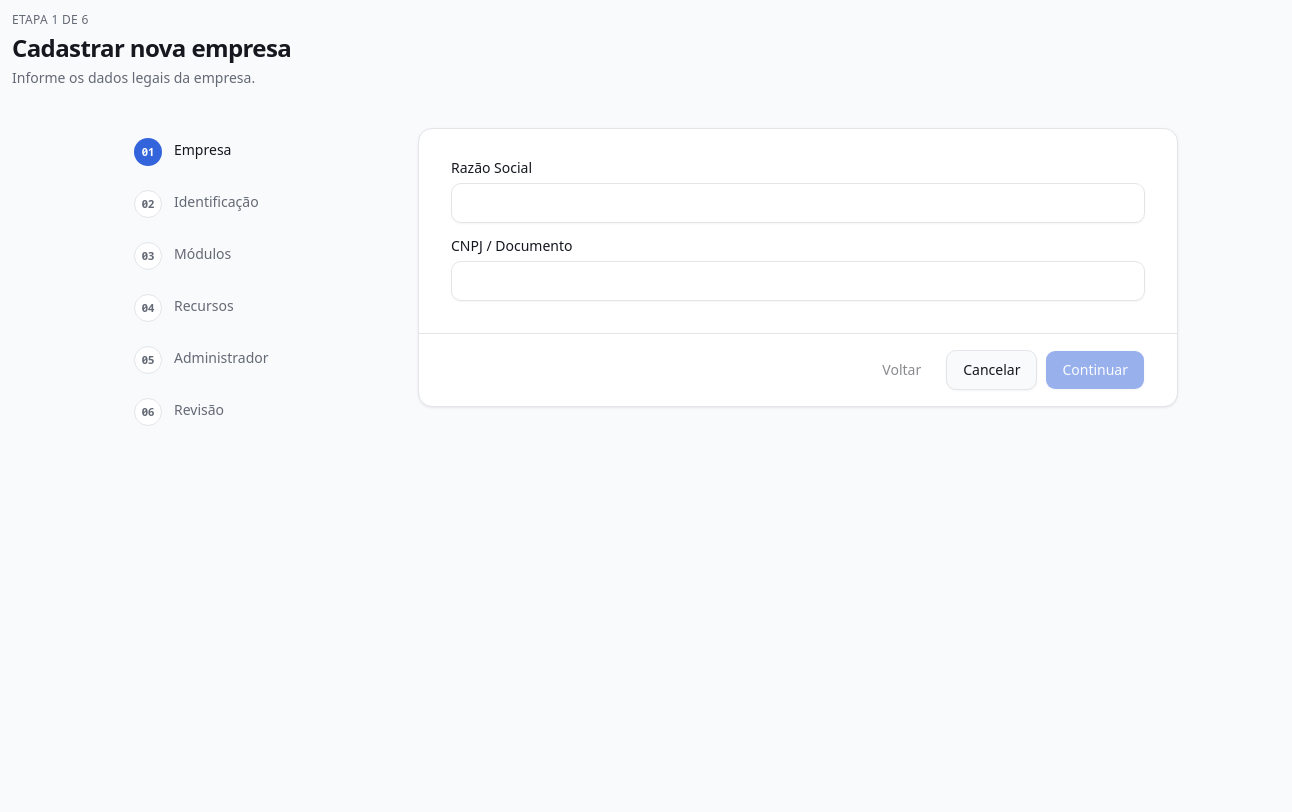
Test case: TenantOnboardingWizard › keeps Back and Cancel enabled on an invalid step after the first
Step 1. Type "Clube Acme" into the field labelled "Razão Social" → (798, 203), box [451,183,1145,223]
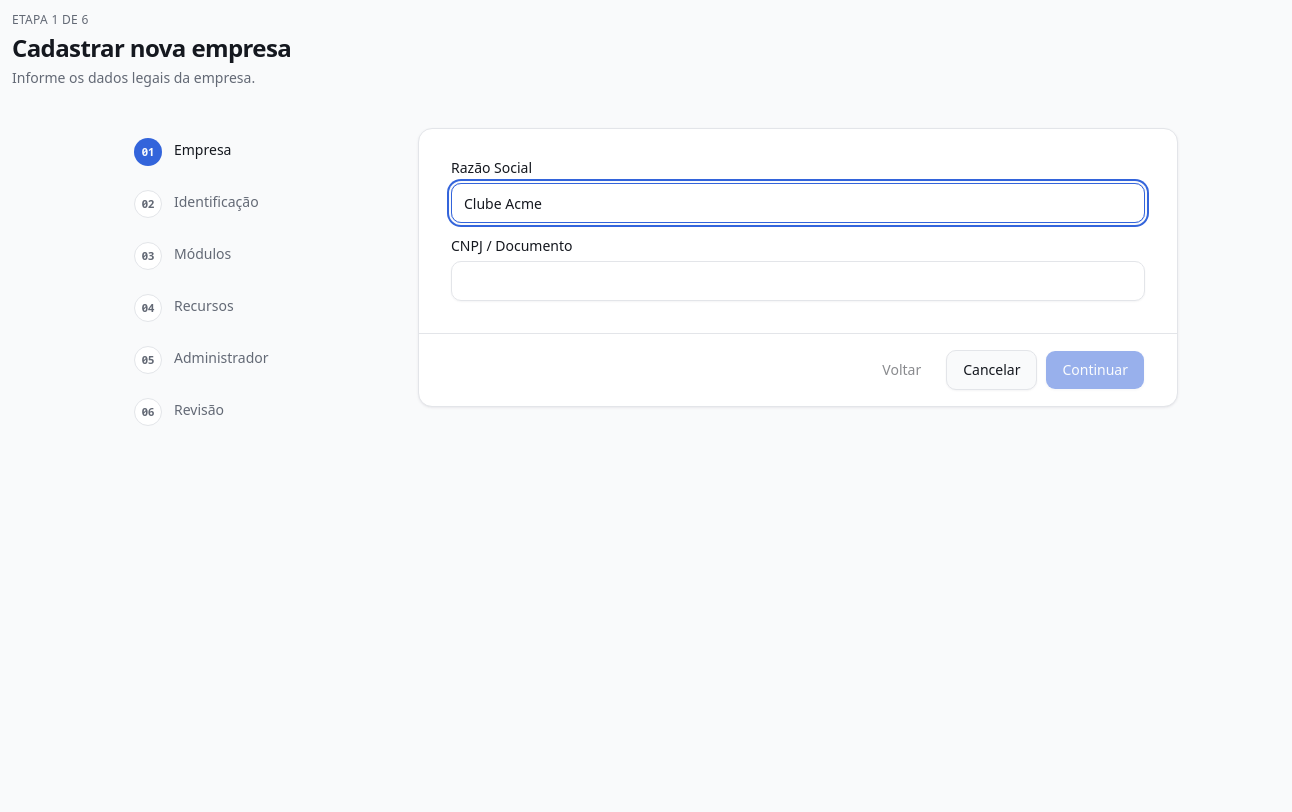
Step 2. Type "123456789" into the field labelled "CNPJ / Documento" → (798, 281), box [451,261,1145,301]
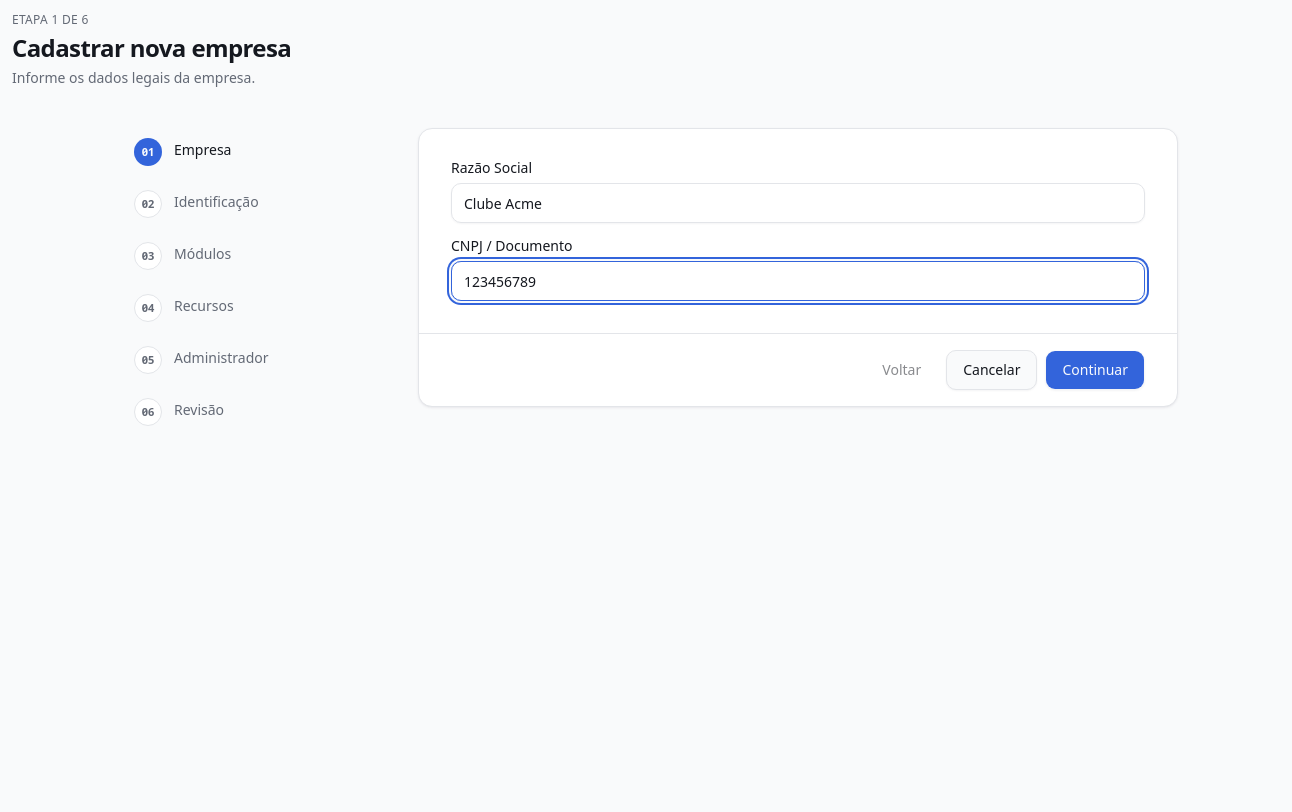
Now the button "Continuar" is enabled
Step 3. Click the button "Continuar" → (1095, 370), box [1045,350,1145,390]
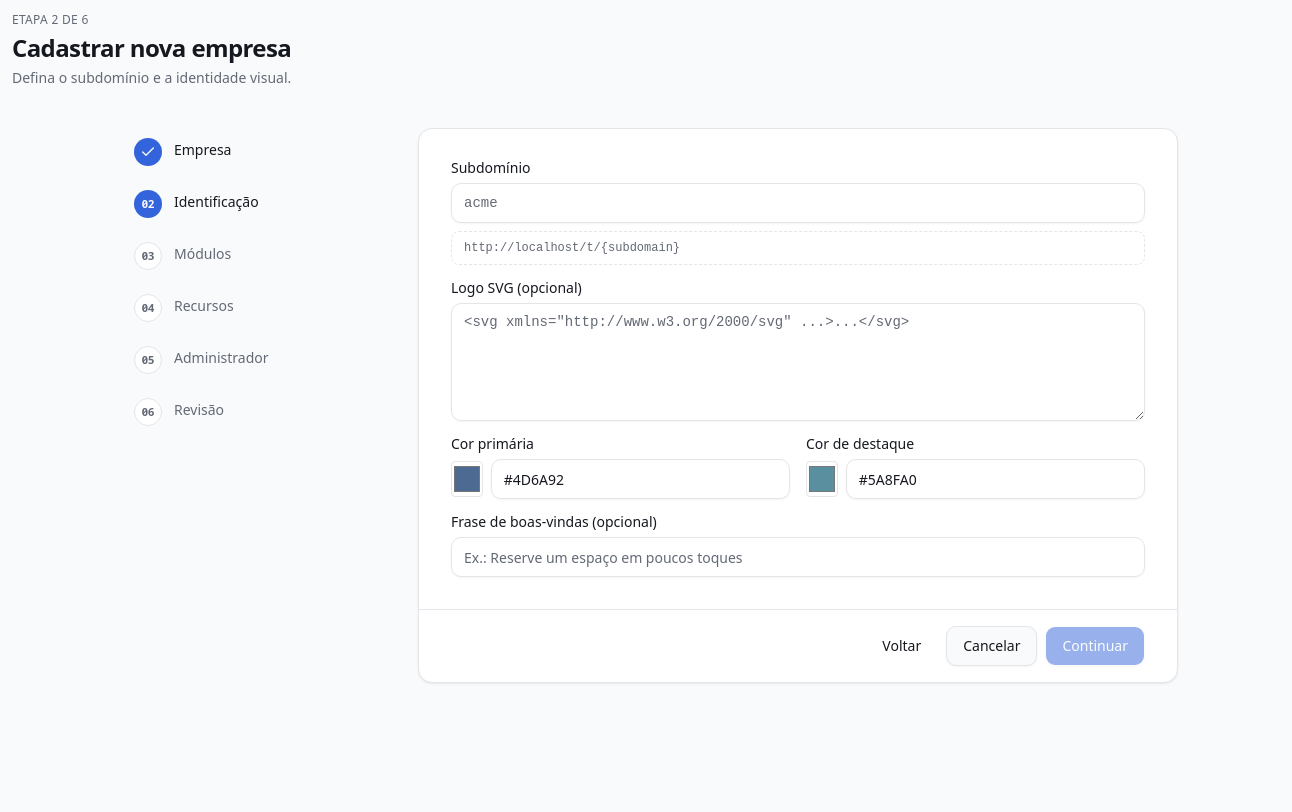
Now the field labelled "Subdomínio" is shown, box [451,183,1145,223]
Now the button "Continuar" is disabled, box [1045,626,1145,666]
Now the button "Voltar" is enabled, box [865,626,938,666]
